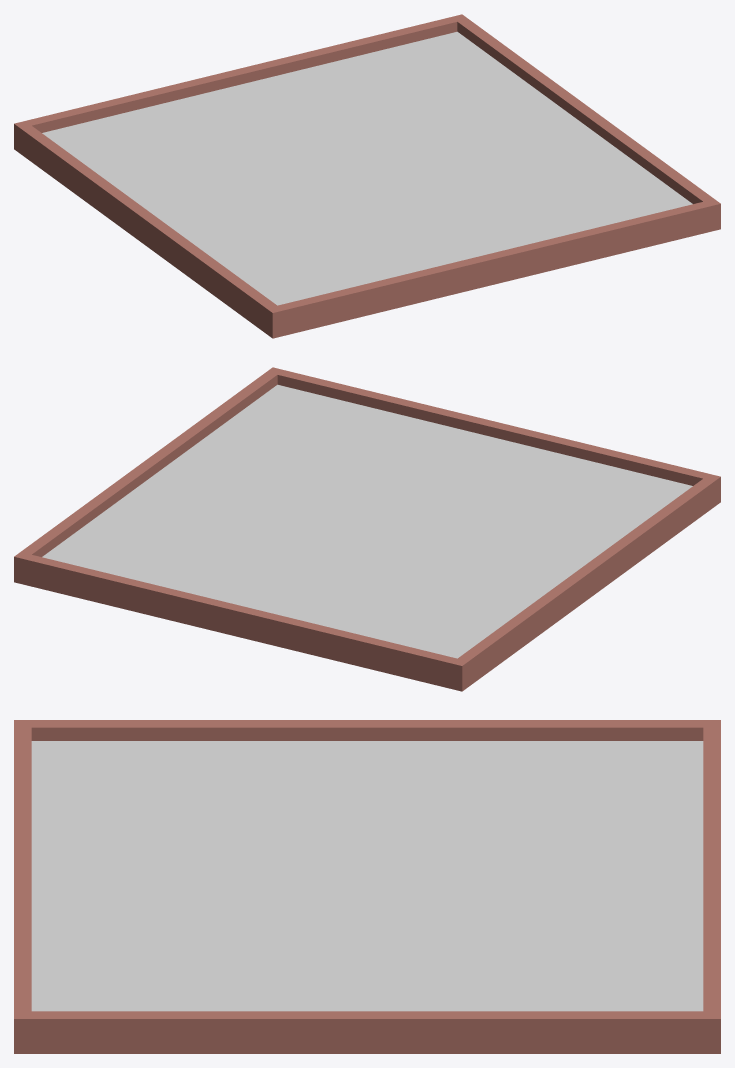
Rendered from House_Base.fbx.
The picture shows the model from 3 angles, top to bottom: view 1: azimuth 30°, elevation 25°; view 2: azimuth 150°, elevation 25°; view 3: azimuth 270°, elevation 25°; orthographic projection. The views are drawn at different scales.
Parts seen in each view (by area): view 1: roof 2; view 2: roof 2; view 3: roof 2.
Part boxes in pixels (x1,y1,x2,y2): roof 2: (14,14,720,338); roof 2: (14,367,720,691); roof 2: (14,720,720,1053).
Size of the model in its own units: 204 by 11.12 by 204.
